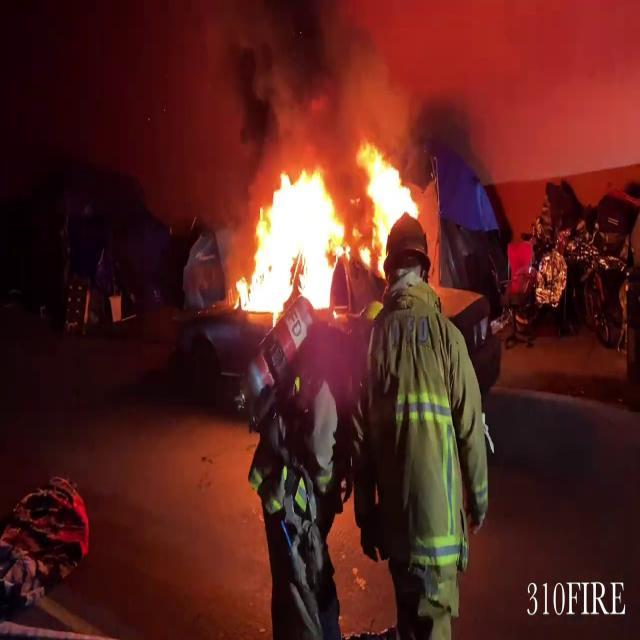Fire: (234, 125, 424, 328)
Smoke: (167, 0, 503, 221)
